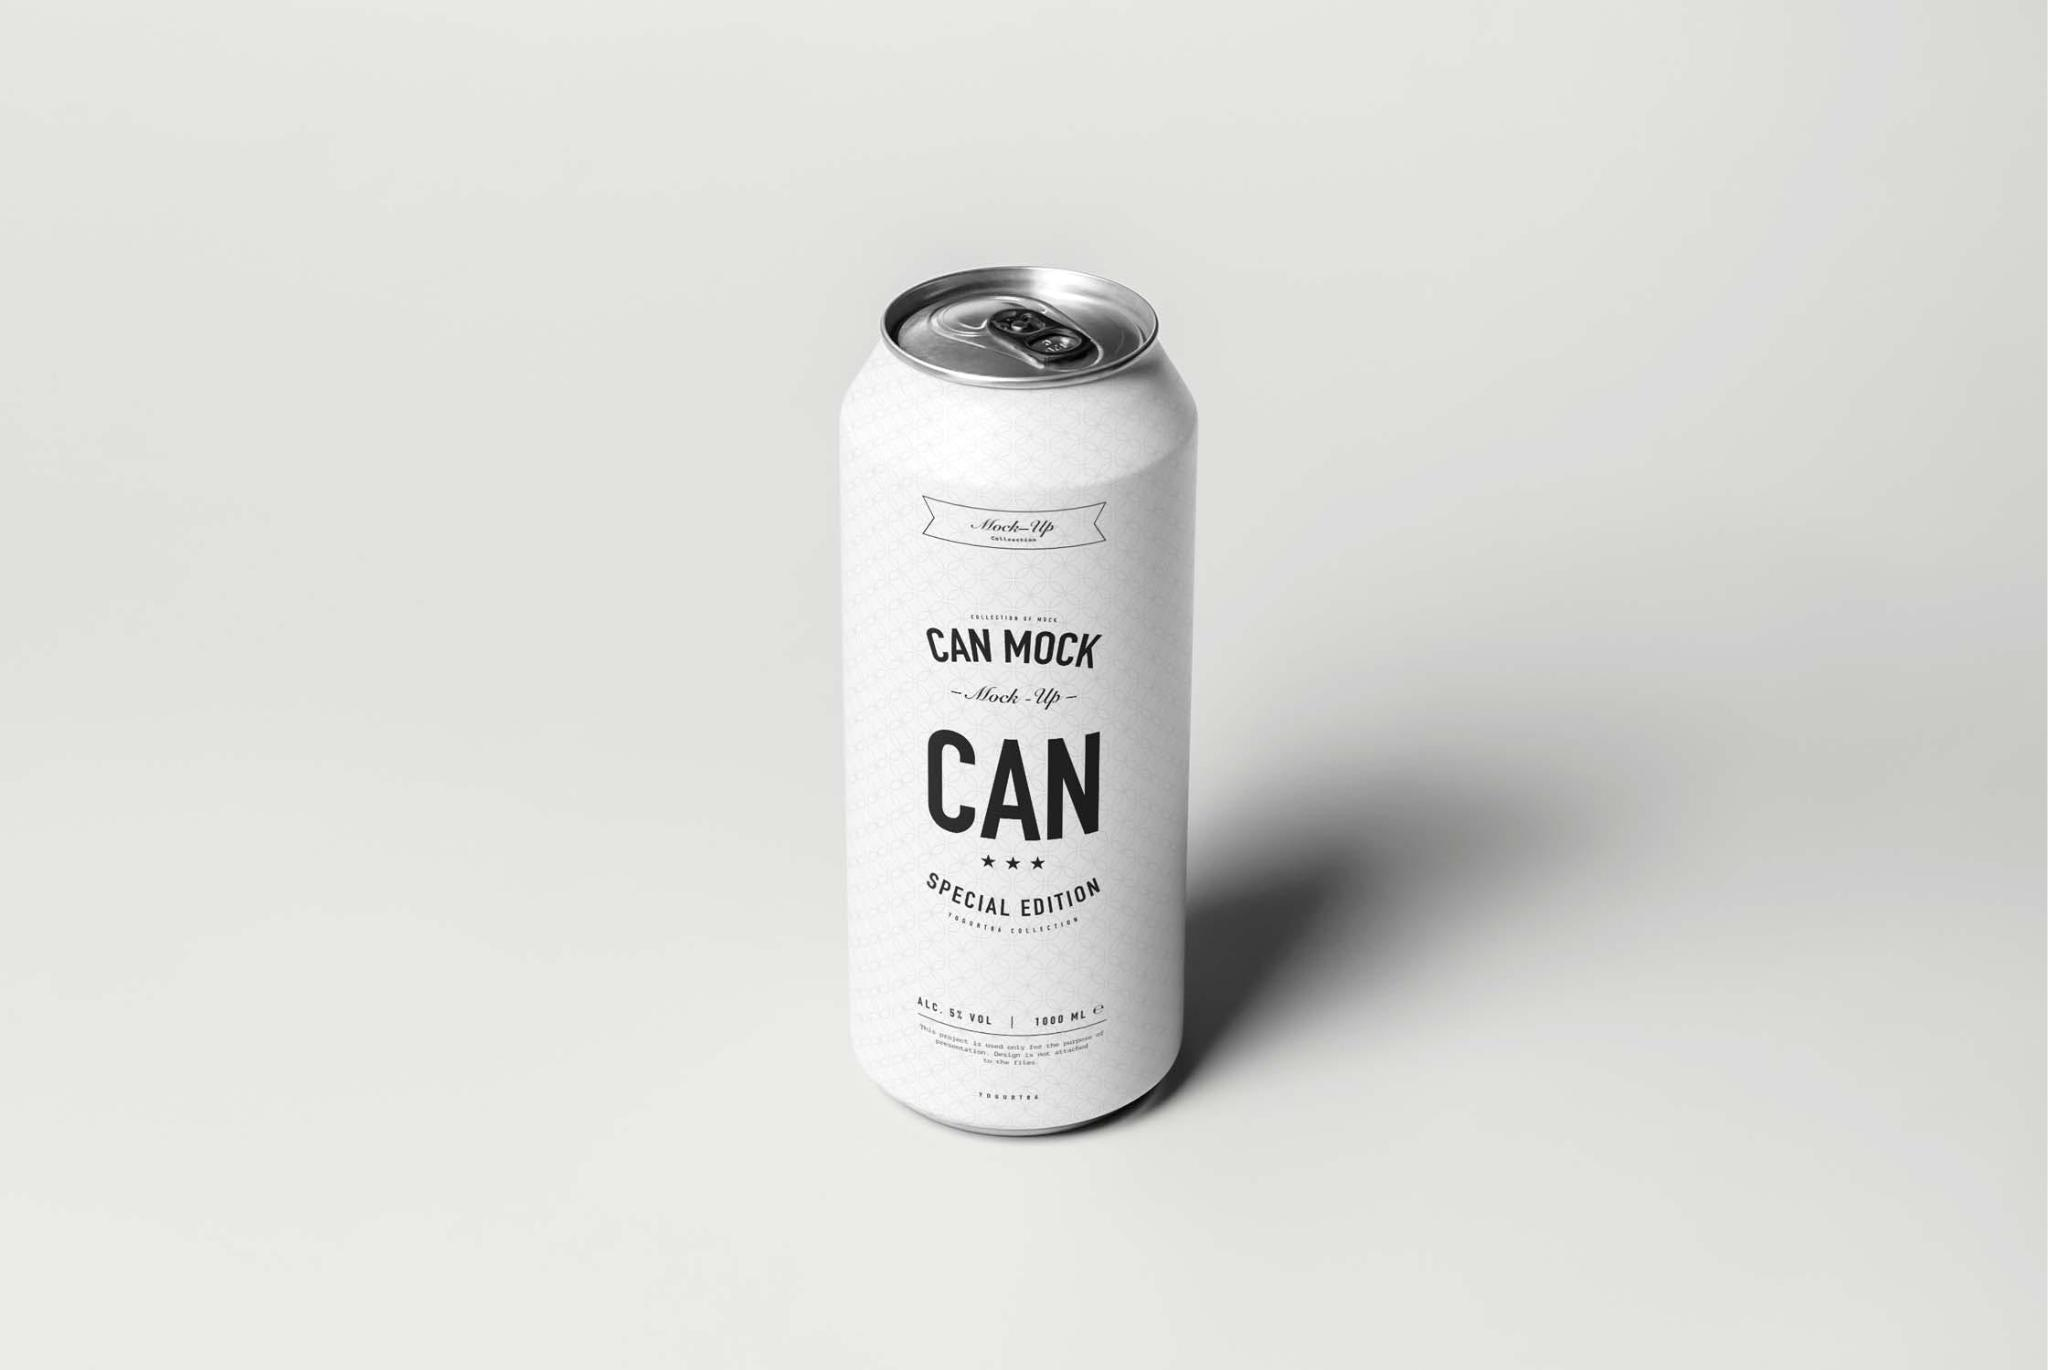metal: (839, 268, 1195, 1136)
